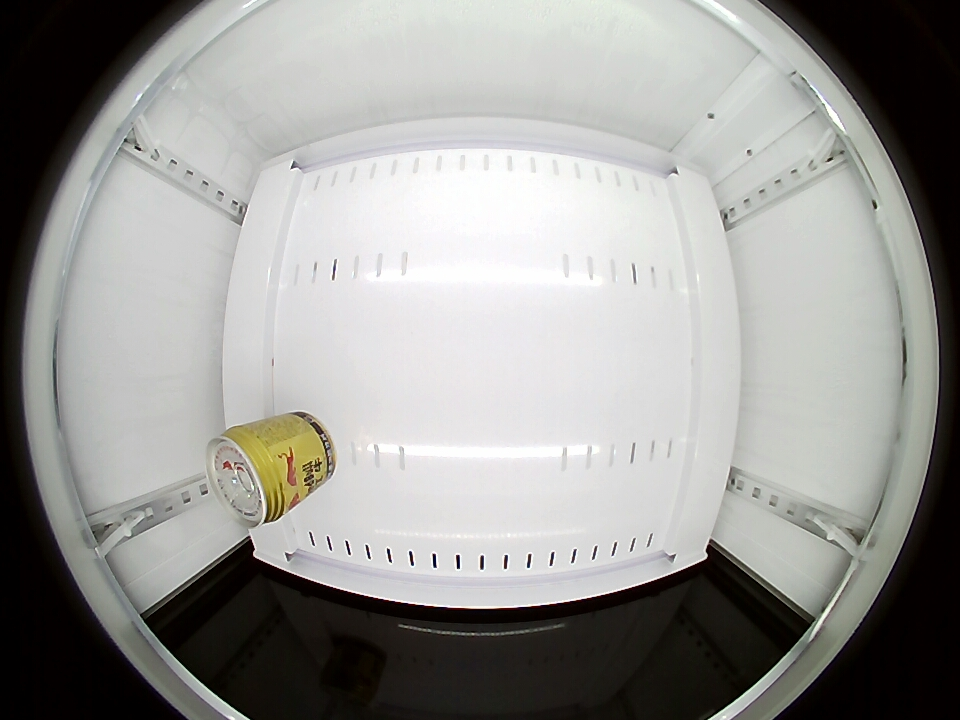hongniu2: (205, 425, 296, 528)
